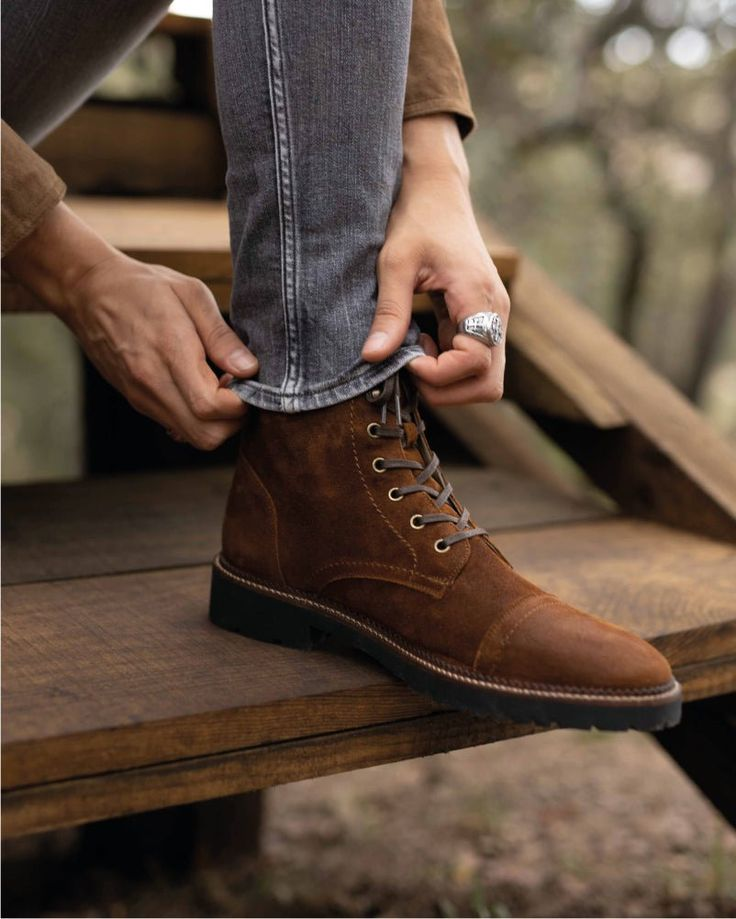gamuza: (222, 388, 553, 671)
